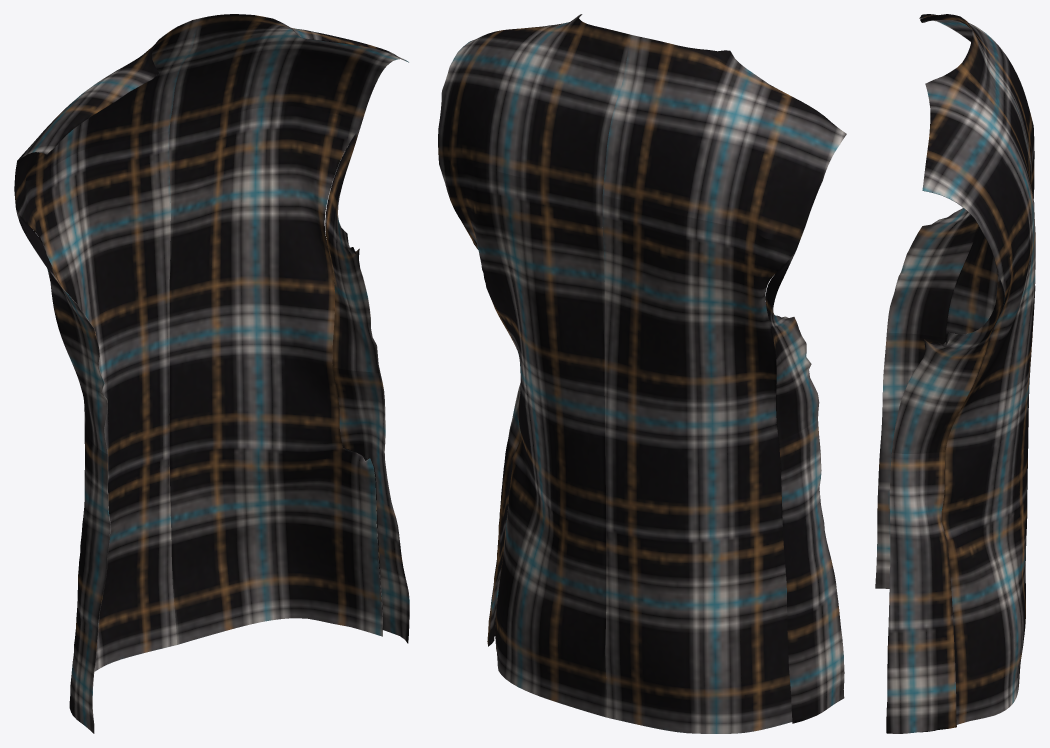
File: dvj.glb
3 views of the same model, side by side, from view 1: azimuth 30°, elevation 25°; view 2: azimuth 150°, elevation 25°; view 3: azimuth 270°, elevation 25° (orthographic). The views are drawn at different scales.
Visible parts, largest first — view 1: vent (×4); view 2: vent (×4); view 3: vent (×4).
Boxes of the visible parts, bbox=[...] form: vent (×4): bbox=[14, 14, 409, 733]; vent (×4): bbox=[438, 14, 846, 733]; vent (×4): bbox=[875, 14, 1035, 733].
Bounding box in the file's own units: 440 × 734 × 169.
4 materials, 4 textured.
